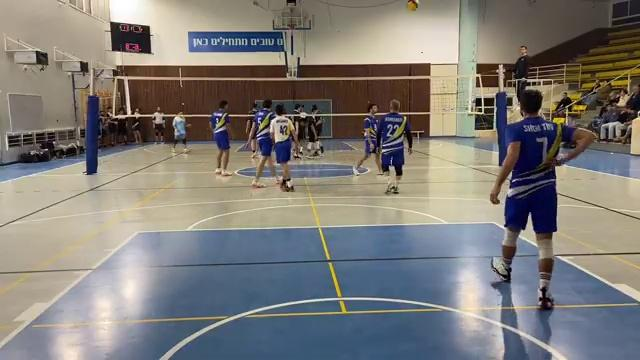ball: (407, 1, 421, 12)
